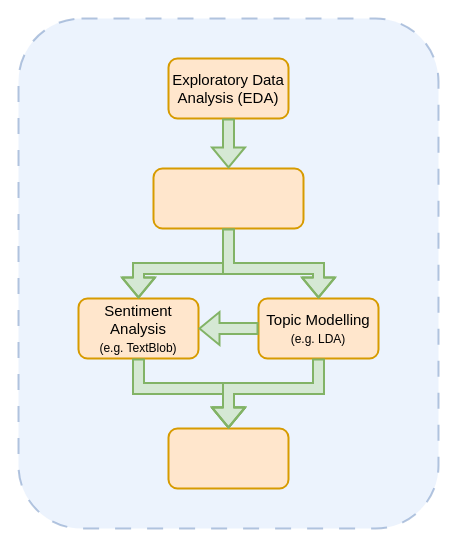
Some shapes in this 456 by 546 pixel diagram are drawn without their labels. The shapes that lost their labels are listed below. From the top down, each one's centre as x and y in pixels, then its label:
At [228,198]: "Data Preprocessing (e.g. top 10 products)".
At [228,458]: "Gather Insights".
